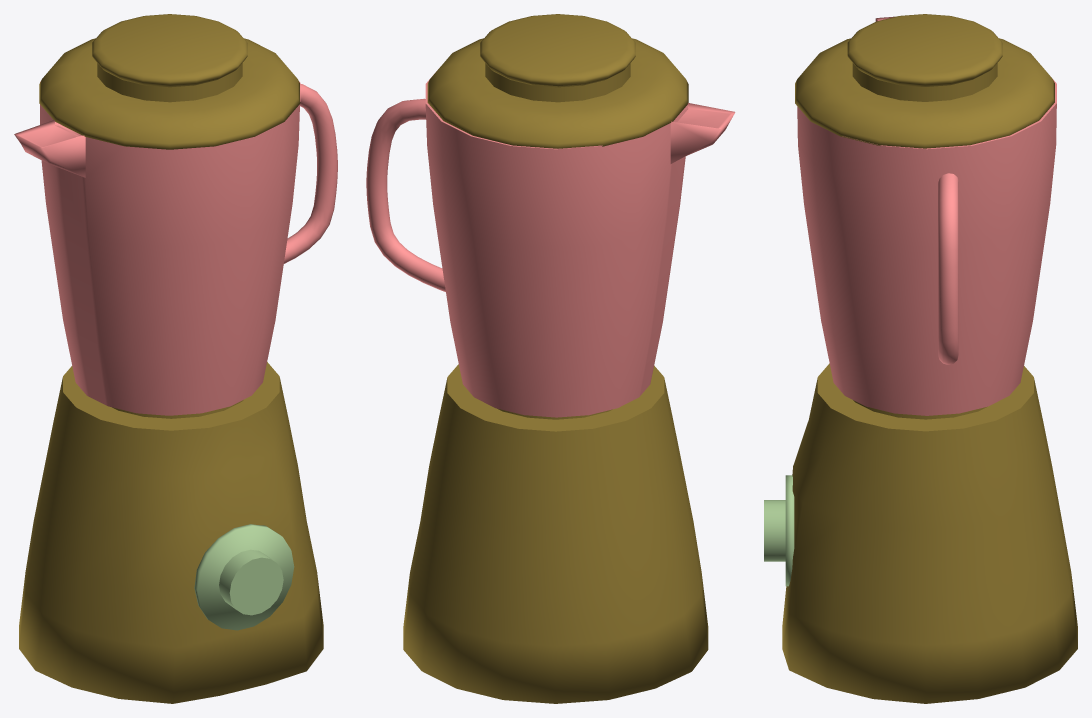
Rendered from blender.fbx.
3 renders of one model, left to right at view 1: azimuth 30°, elevation 25°; view 2: azimuth 150°, elevation 25°; view 3: azimuth 270°, elevation 25°, orthographic.
Parts seen in each view (by area): view 1: Blender; view 2: Blender; view 3: Blender.
Boxes of the visible parts, x1,y1,x2,y2 form: Blender: [14, 14, 337, 703]; Blender: [366, 14, 735, 703]; Blender: [764, 14, 1077, 703].
Bounding box in the file's own units: 8.11 × 13.63 × 6.54.
